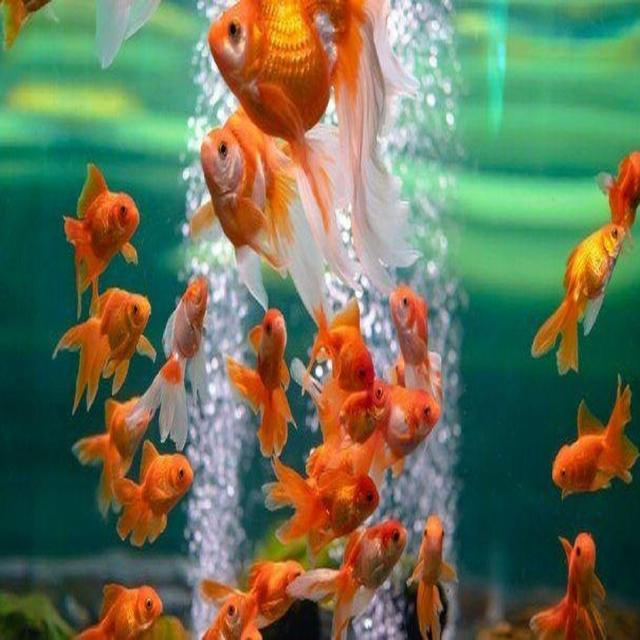GoldFish: (204, 0, 424, 281), (195, 78, 350, 297), (531, 212, 632, 372), (130, 267, 214, 444), (53, 284, 157, 421), (284, 519, 406, 635), (66, 158, 145, 313), (220, 306, 294, 466), (548, 382, 632, 507), (270, 467, 385, 551), (111, 438, 194, 544), (528, 527, 601, 640), (407, 504, 455, 640), (306, 300, 380, 387), (218, 558, 301, 634), (74, 576, 169, 640), (384, 386, 449, 466), (392, 287, 438, 385)
